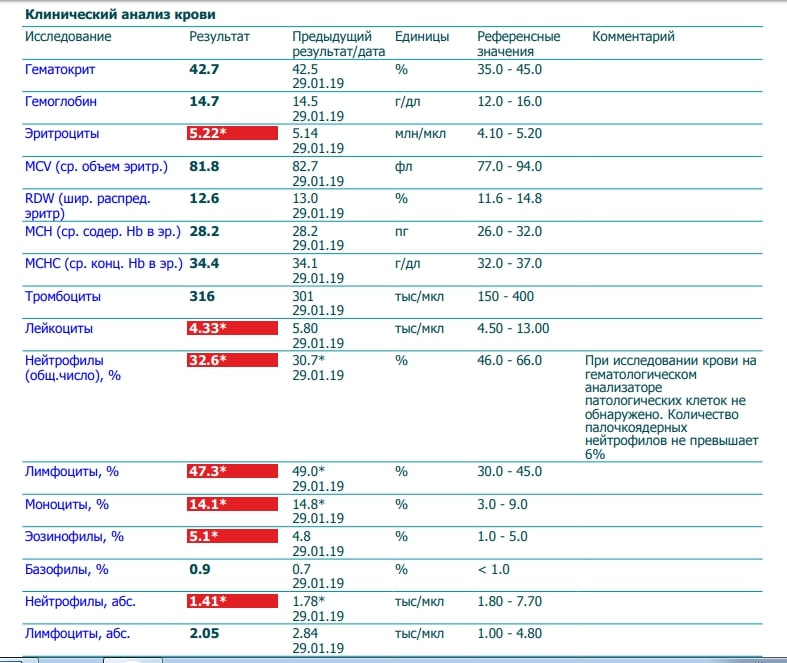column: (584, 26, 760, 657), (23, 26, 183, 657), (291, 26, 386, 657), (476, 26, 561, 657), (188, 26, 251, 657), (394, 26, 450, 657)
